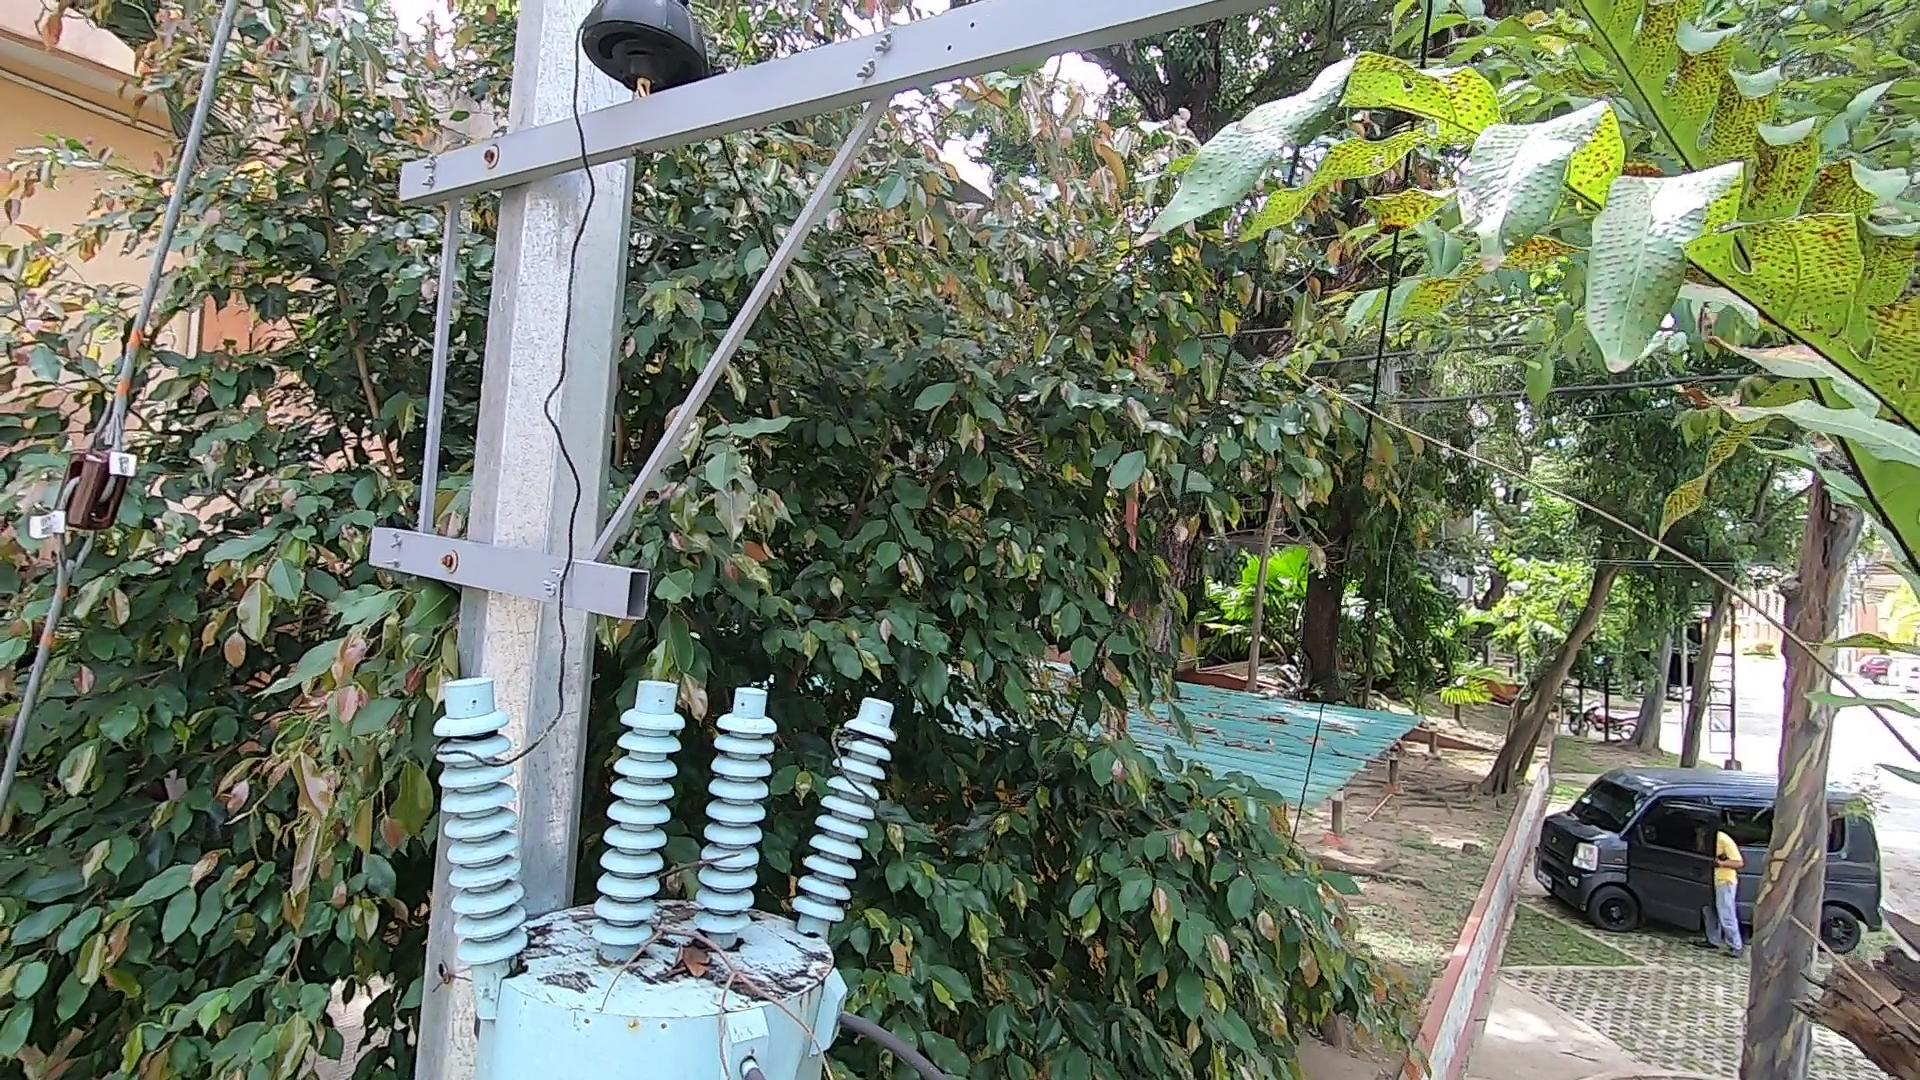leaf: (663, 932, 727, 986)
tree branch: (613, 882, 847, 1080)
